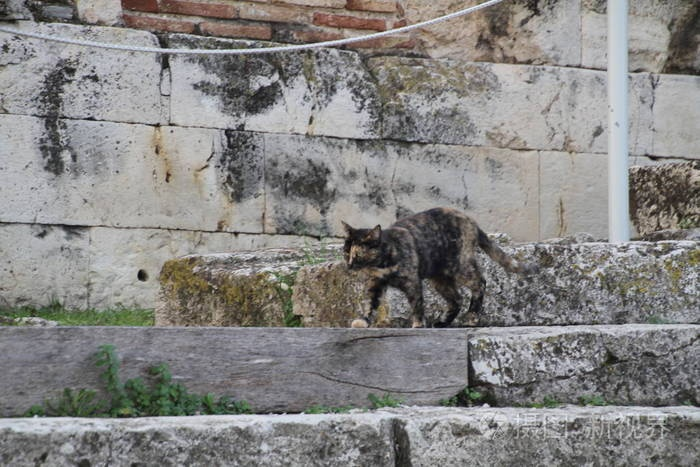cat: (339, 206, 552, 328)
